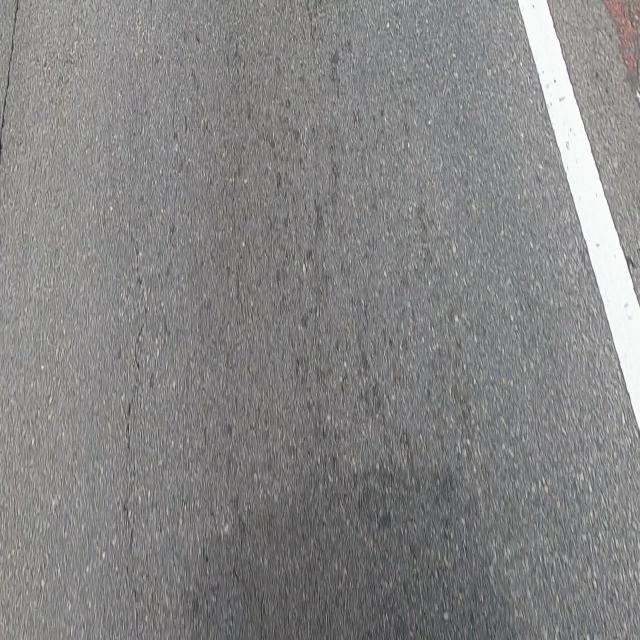Retak-Memanjang: (121, 227, 150, 538), (0, 0, 21, 160)
